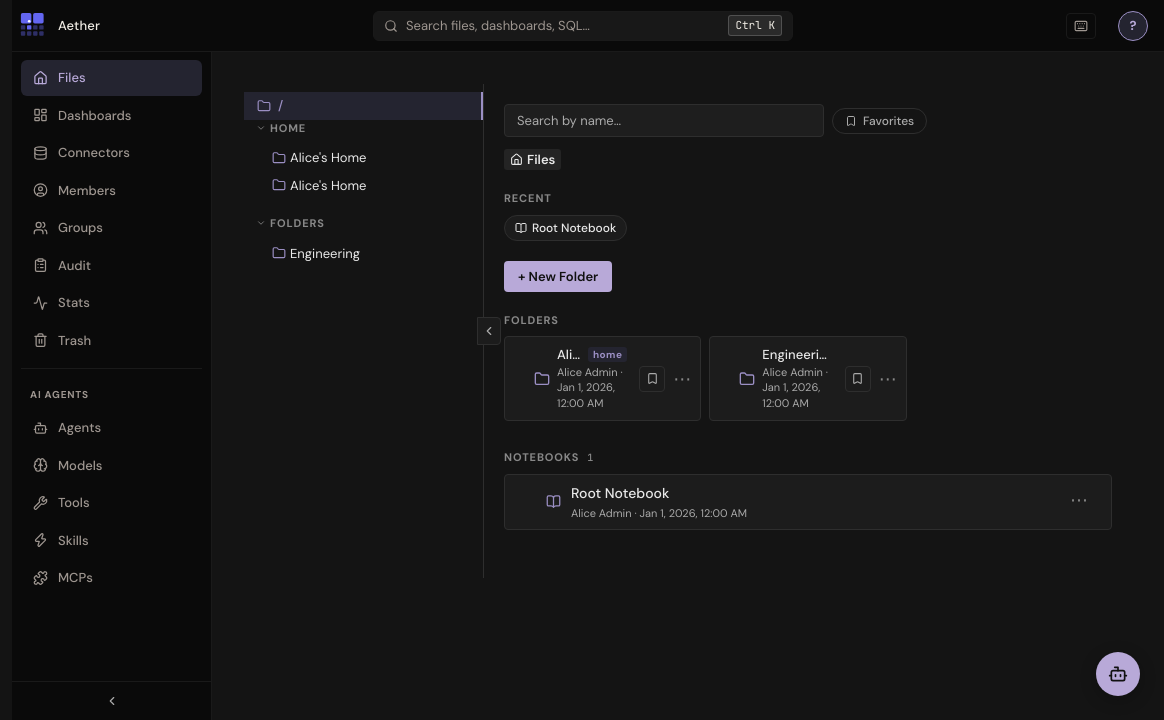
Test case: Context menu (T2.6) › ⋯ button opens context menu with Rename, Move to…, Permissions, Delete items
Click the 1st button titled "More options" at [683, 379], box [665,370,700,388]
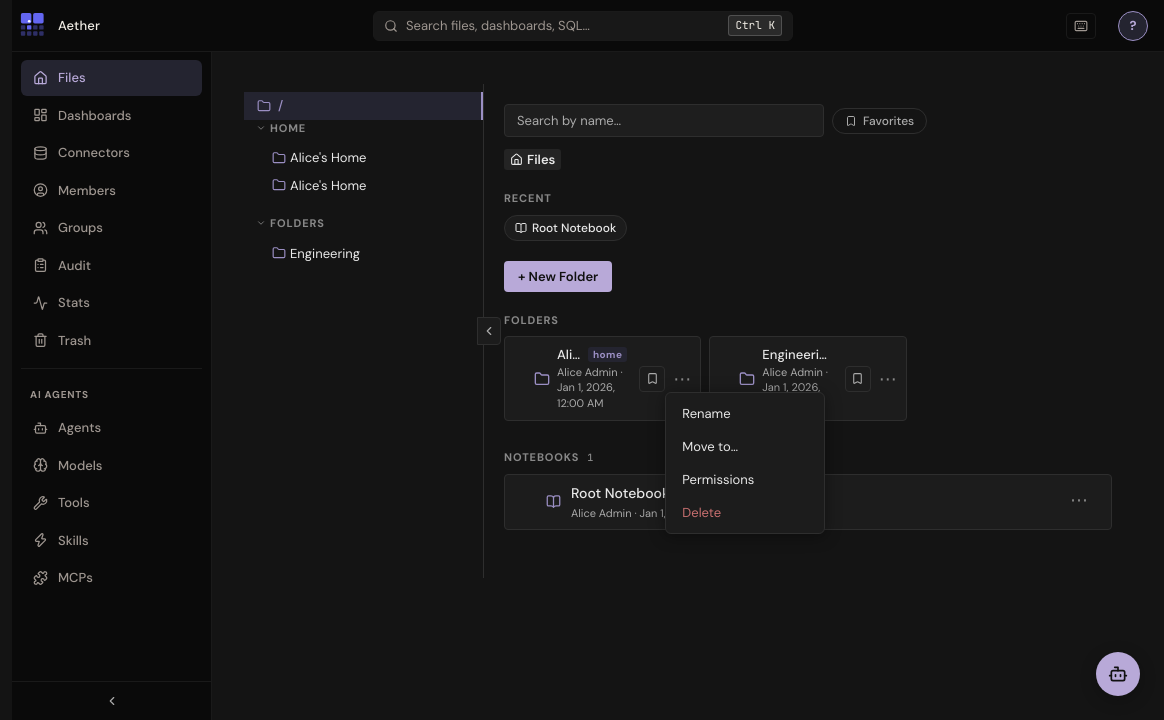
Result: the button "Rename" is shown at [666,397,824,430]
Result: the button "Move to…" is shown at [666,430,824,463]
Result: the button "Permissions" is shown at [666,463,824,496]
